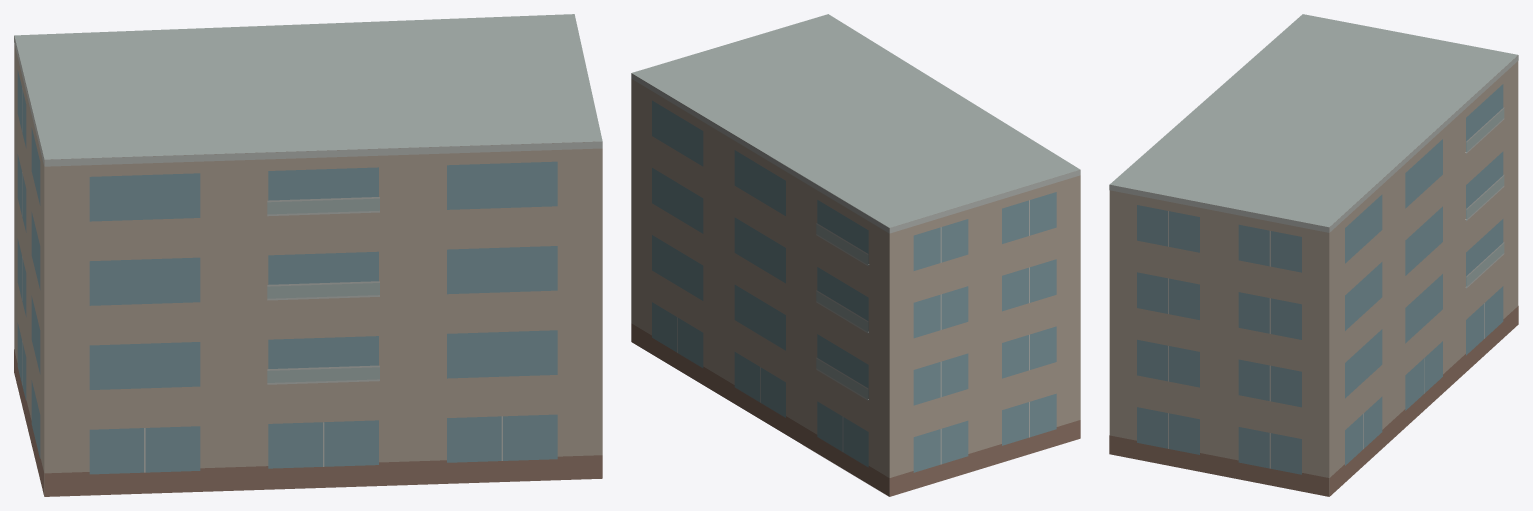
File: survey-upis-32632722.glb
3 views of the same model, side by side, from view 1: azimuth 30°, elevation 25°; view 2: azimuth 150°, elevation 25°; view 3: azimuth 270°, elevation 25° (orthographic). The views are drawn at different scales.
Parts seen in each view (by area): view 1: survey-upis-32632722.tmp; view 2: survey-upis-32632722.tmp; view 3: survey-upis-32632722.tmp.
Boxes of the visible parts, bbox=[...] form: survey-upis-32632722.tmp: bbox=[14, 14, 602, 496]; survey-upis-32632722.tmp: bbox=[631, 14, 1080, 496]; survey-upis-32632722.tmp: bbox=[1109, 14, 1518, 496].
Size of the model in its own units: 19.87 by 11.7 by 16.1.
